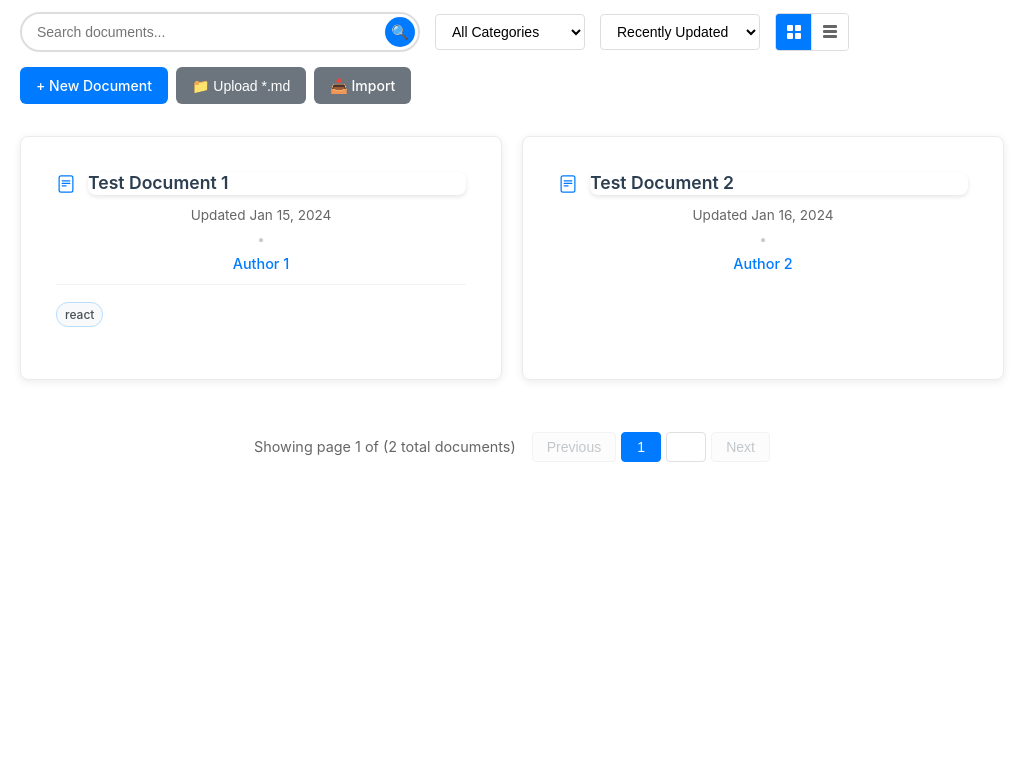
it: DocumentList › upload section › hides upload section when close button clicked
The image size is (1024, 780).
Click the button "📁 Upload *.md": (241, 86) [176,67,306,104]
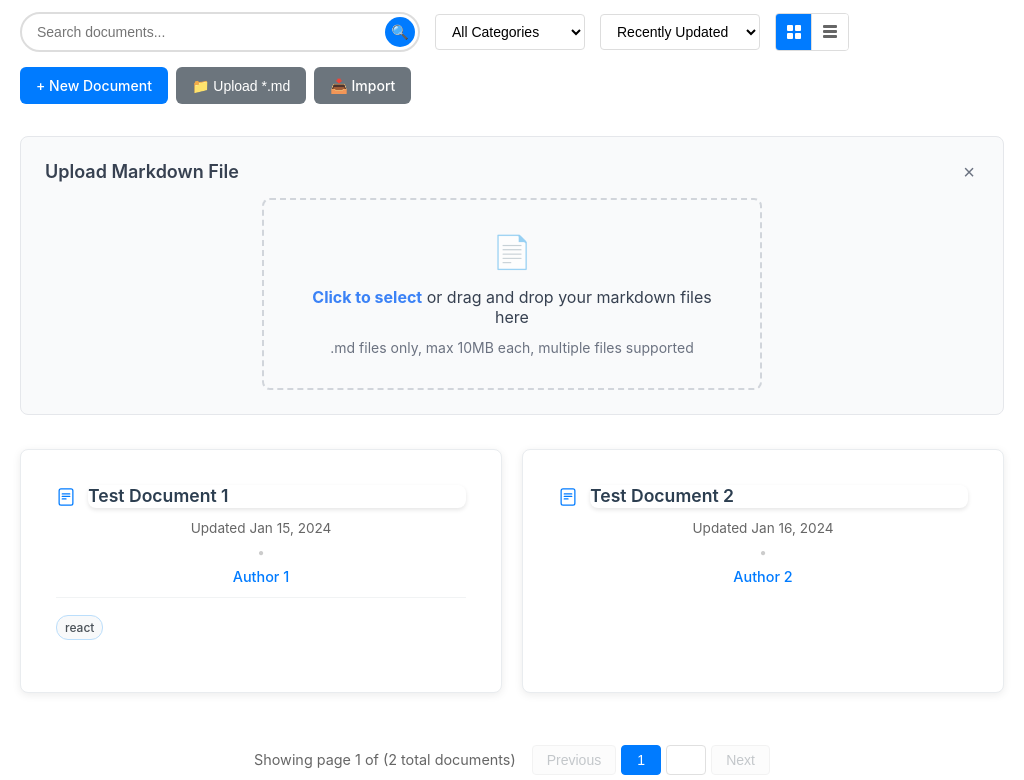
Now the heading "Upload Markdown File" is shown, box [45,161,239,182]
# Find close button in upload section
Click the button "×": (969, 172) [959,162,979,182]
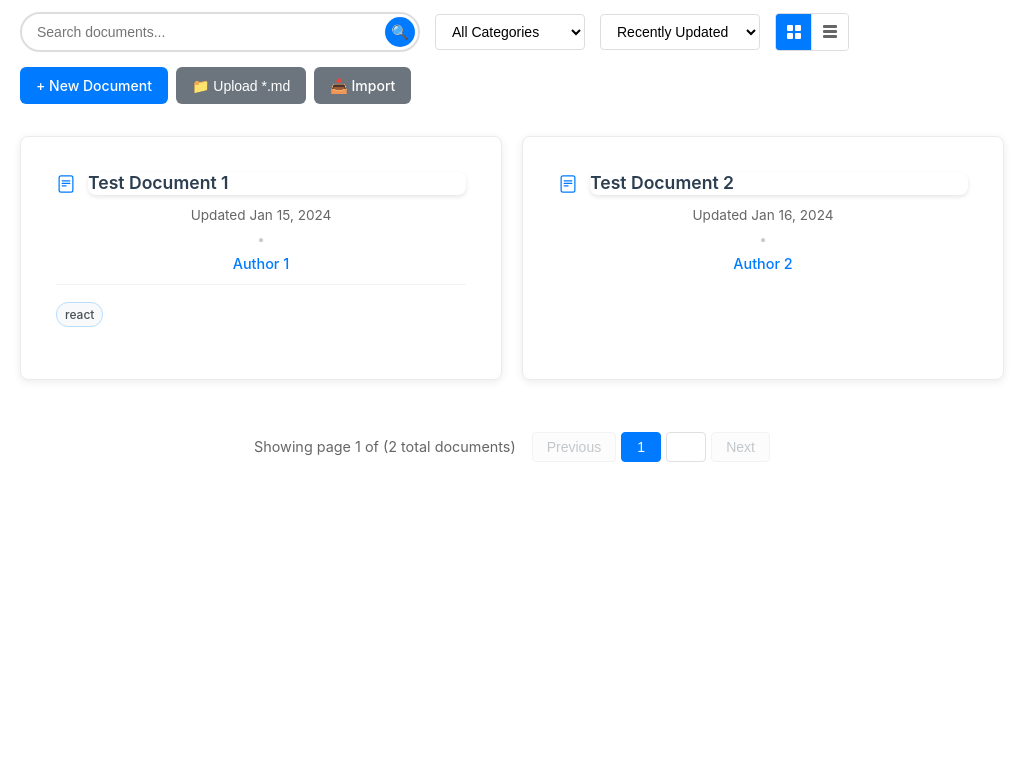
Now the heading "Upload Markdown File" is gone
